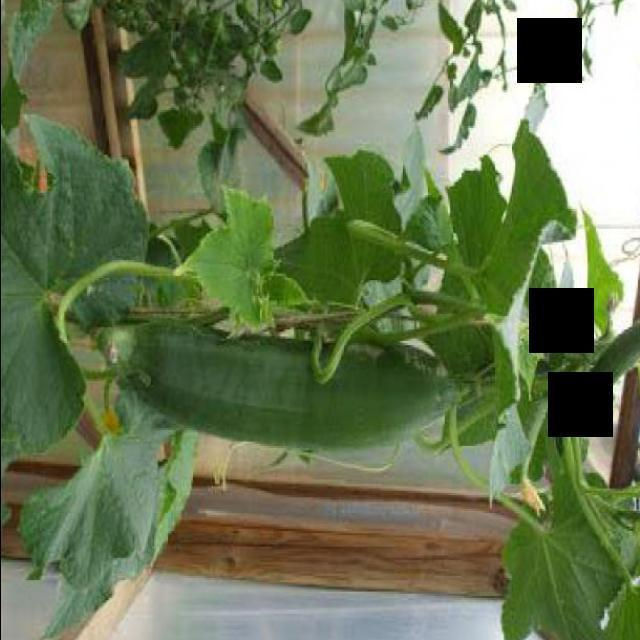cucumber: (88, 322, 470, 448)
